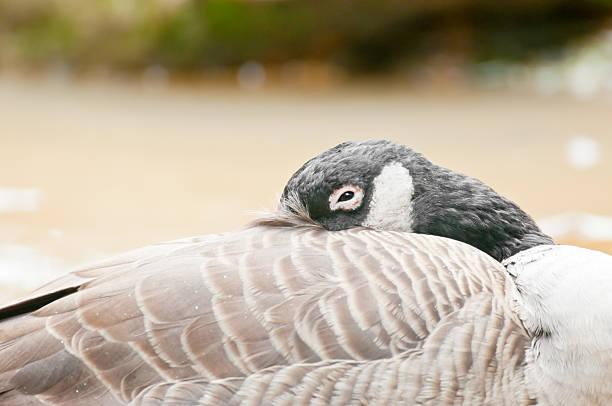Canadian-Goose: (0, 138, 612, 406)
